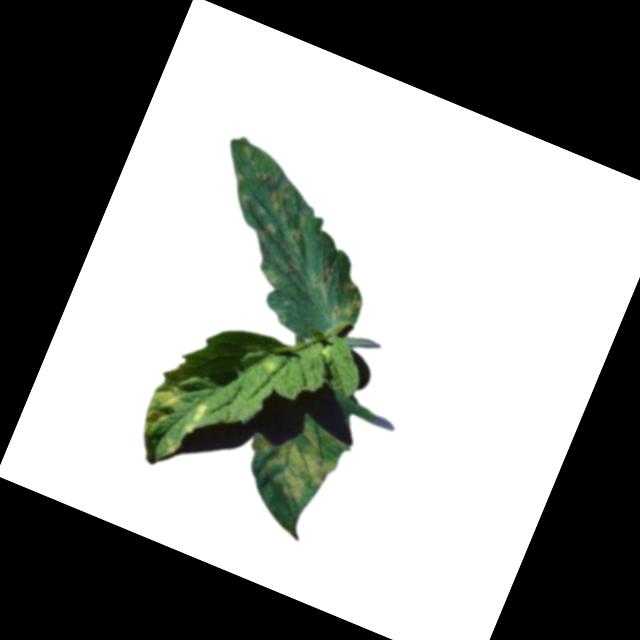Leaf_Mold: (235, 407, 349, 515), (136, 382, 191, 445), (326, 284, 370, 331), (281, 212, 316, 257), (265, 175, 299, 219), (306, 260, 342, 301), (184, 397, 211, 437), (258, 355, 279, 378), (258, 219, 279, 242)
